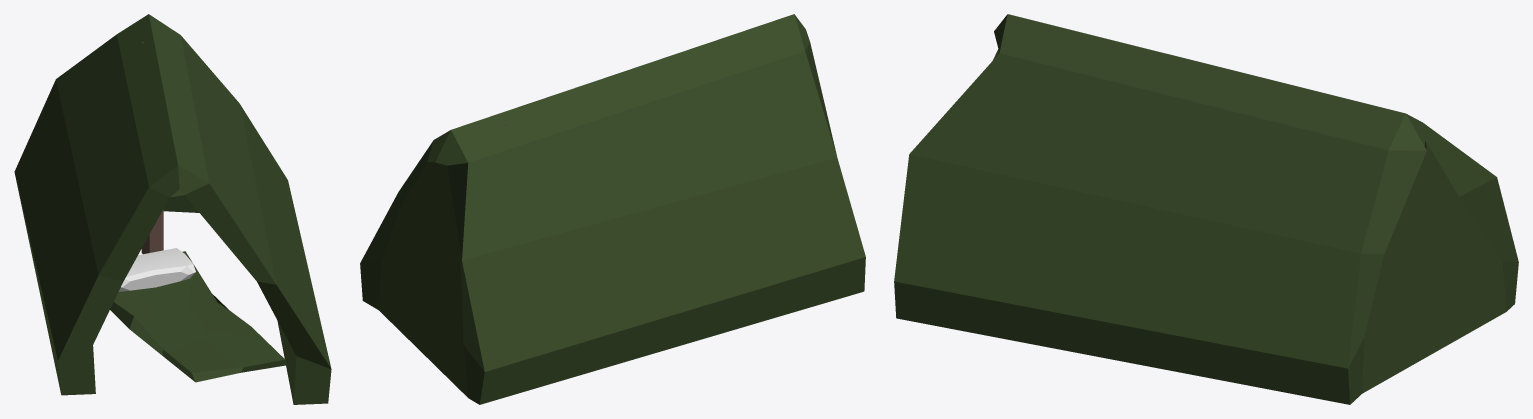
Rendered from TELTTA.fbx.
3 renders of one model, left to right at view 1: azimuth 30°, elevation 25°; view 2: azimuth 150°, elevation 25°; view 3: azimuth 270°, elevation 25°, orthographic. The views are drawn at different scales.
Visible parts, largest first — view 1: TELTTAA.000; view 2: TELTTAA.000; view 3: TELTTAA.000.
Boxes of the visible parts, bbox=[...] form: TELTTAA.000: bbox=[14, 14, 331, 404]; TELTTAA.000: bbox=[360, 14, 865, 404]; TELTTAA.000: bbox=[894, 14, 1518, 404].
Bounding box in the file's own units: 495 × 306 × 674.
